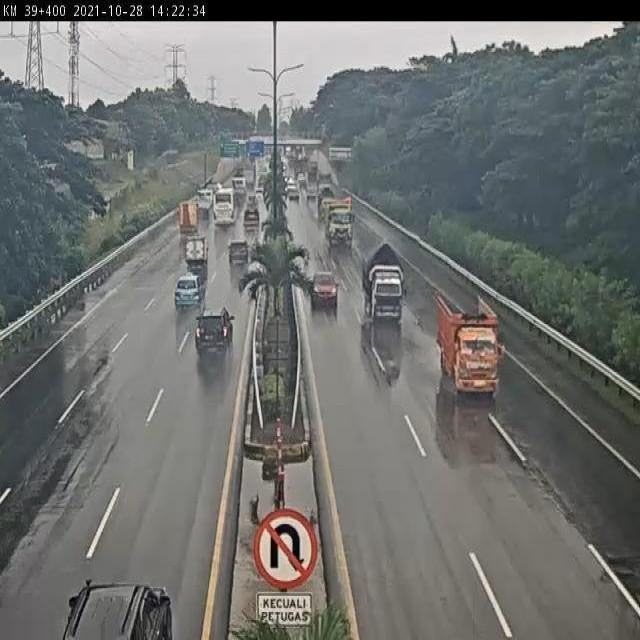big bus: (210, 184, 242, 231)
car: (181, 230, 210, 270)
truck-l-: (320, 196, 355, 249)
truck-s-: (438, 291, 503, 397), (359, 237, 404, 324), (174, 196, 199, 237), (240, 208, 264, 237)
